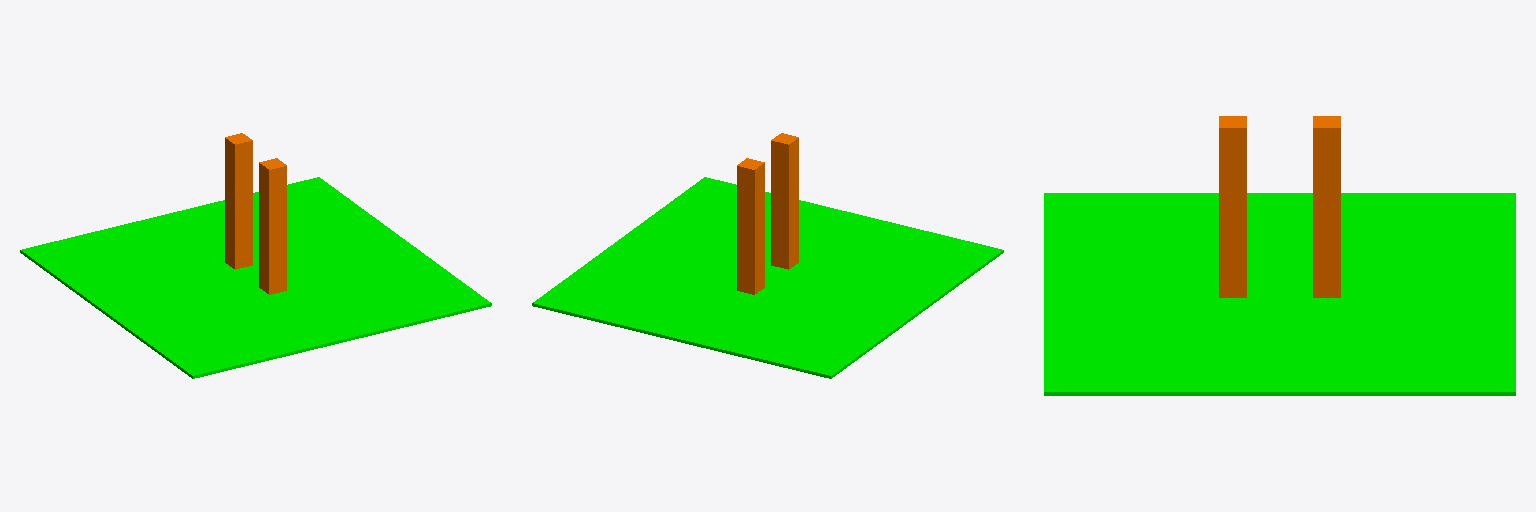
robot.urdf — scene_mingruiyu_0:
<?xml version="1.0" ?>
<!-- =================================================================================== -->
<!-- |    This document was autogenerated by xacro from scene_mingruiyu_2.xacro        | -->
<!-- |    EDITING THIS FILE BY HAND IS NOT RECOMMENDED                                 | -->
<!-- =================================================================================== -->
<robot name="scene_mingruiyu_0">
  <material name="dark_gray">
    <color rgba="0.2 0.2 0.2 1.0"/>
  </material>
  <material name="gray">
    <color rgba="0.3 0.3 0.3 1.0"/>
  </material>
  <material name="light_gray">
    <color rgba="0.4 0.4 0.4 1.0"/>
  </material>
  <material name="yellow">
    <color rgba="0.8 0.8 0.0 1.0"/>
  </material>
  <material name="orange">
    <color rgba="1.0 0.5 0.0 1.0"/>
  </material>
  <material name="green">
    <color rgba="0.0 1.0 0.0 1.0"/>
  </material>
  <material name="teal">
    <color rgba="0.0 1.0 1.0 1.0"/>
  </material>
  <material name="black">
    <color rgba="0.15 0.15 0.15 1.0"/>
  </material>
  <!-- GROUND PLANE -->
  <link name="ground_plane">
    <visual>
      <geometry>
        <box size="1 1 0.01"/>
      </geometry>
      <origin rpy="0 0 0" xyz="0 0 -0.005"/>
      <material name="green"/>
    </visual>
    <collision>
      <geometry>
        <box size="1 1 0.01"/>
      </geometry>
      <origin rpy="0 0 0" xyz="0 0 -0.005"/>
    </collision>
  </link>
  <link name="pole_1_root_link">
    <visual>
      <geometry>
        <box size="0.06 0.06 0.4"/>
      </geometry>
      <origin rpy="0 0 0" xyz="0 0 0.2"/>
      <material name="orange"/>
    </visual>
    <collision>
      <geometry>
        <box size="0.06 0.06 0.4"/>
      </geometry>
      <origin rpy="0 0 0" xyz="0 0 0.2"/>
    </collision>
  </link>
  <joint name="pole_1_fixture_joint" type="fixed">
    <parent link="ground_plane"/>
    <child link="pole_1_root_link"/>
    <origin rpy="0 0 0" xyz="0.0 -0.1 0.0"/>
  </joint>
  <link name="pole_2_root_link">
    <visual>
      <geometry>
        <box size="0.06 0.06 0.4"/>
      </geometry>
      <origin rpy="0 0 0" xyz="0 0 0.2"/>
      <material name="orange"/>
    </visual>
    <collision>
      <geometry>
        <box size="0.06 0.06 0.4"/>
      </geometry>
      <origin rpy="0 0 0" xyz="0 0 0.2"/>
    </collision>
  </link>
  <joint name="pole_2_fixture_joint" type="fixed">
    <parent link="ground_plane"/>
    <child link="pole_2_root_link"/>
    <origin rpy="0 0 0" xyz="0.0 0.1 0.0"/>
  </joint>
</robot>

--- What the picture shows (computed from the rendered views, not written in the file) ---
3 views of the same robot in one strip: view 1: azimuth 30°, elevation 25°; view 2: azimuth 150°, elevation 25°; view 3: azimuth 270°, elevation 25° (orthographic).
Robot: scene_mingruiyu_0 — 3 links, 2 joints (2 fixed); root link ground_plane; default pose: every joint at zero.
Links seen in each view (by area): view 1: ground_plane, pole_1_root_link, pole_2_root_link; view 2: ground_plane, pole_2_root_link, pole_1_root_link; view 3: ground_plane, pole_1_root_link, pole_2_root_link.
Link boxes in pixels (box(x1,y1,x2,y2)): ground_plane: box(20, 177, 491, 378); pole_1_root_link: box(259, 158, 286, 294); pole_2_root_link: box(225, 133, 252, 269); ground_plane: box(532, 177, 1003, 378); pole_2_root_link: box(737, 158, 764, 294); pole_1_root_link: box(771, 133, 798, 269); ground_plane: box(1044, 193, 1515, 395); pole_1_root_link: box(1219, 116, 1246, 297); pole_2_root_link: box(1313, 116, 1340, 297).
Bounding box of the posed robot: 1 × 1 × 0.41 m (x, y, z).
Geometry: primitives only (box / cylinder / sphere), no mesh files.
